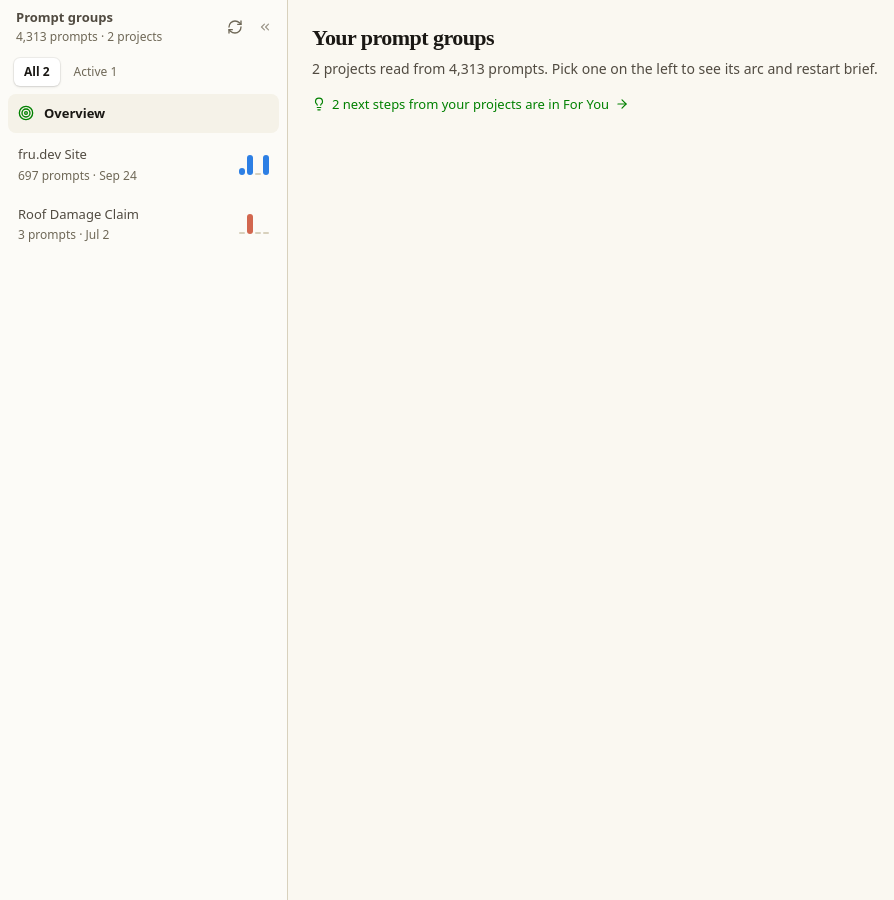
Test: ProjectsView › filters to active projects
Click the button "Active 1": (95, 72) [64,58,127,86]
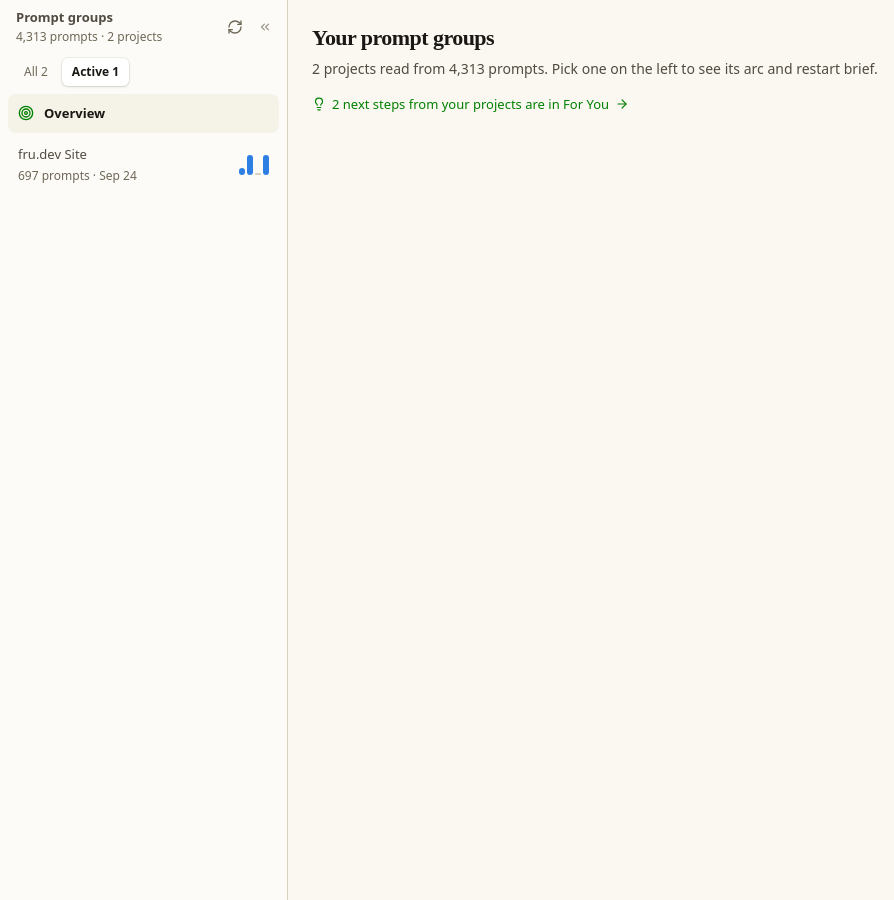
Now the button "Roof Damage Claim" is gone
